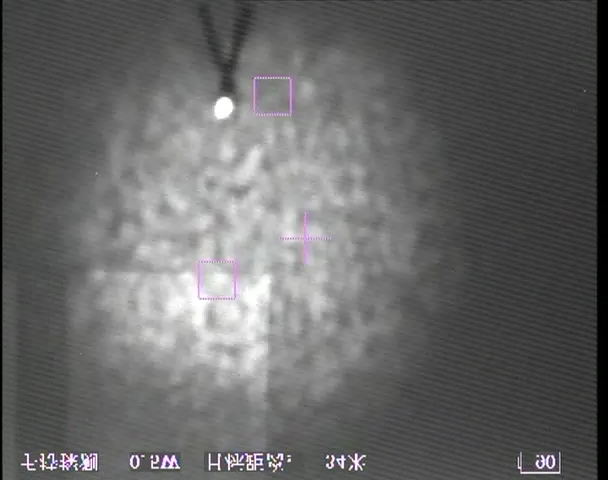my: (212, 94, 235, 121)
